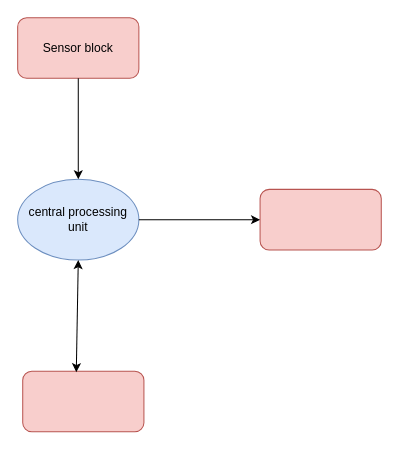
This 399x449 diagram has some shape labels left out. The centre of each missing label's shape, as x and y in pixels:
actuator block: the point at 320,219
Data and Signal from and to app and web: the point at 83,401
